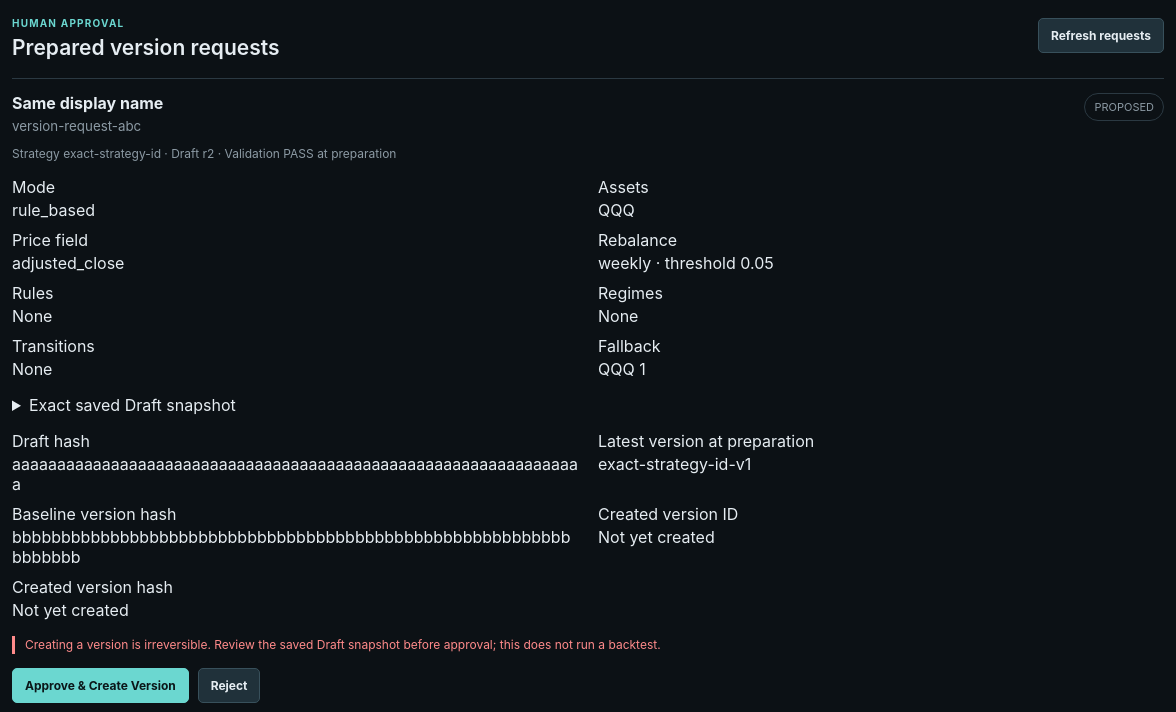
Scenario: controlled version requests › keeps the backend refusal visible after refreshing the request
The width and height of the screenshot is (1176, 712).
Click the button "Approve & Create Version": (100, 686) 12,668 -> 189,703
(page scrolled)
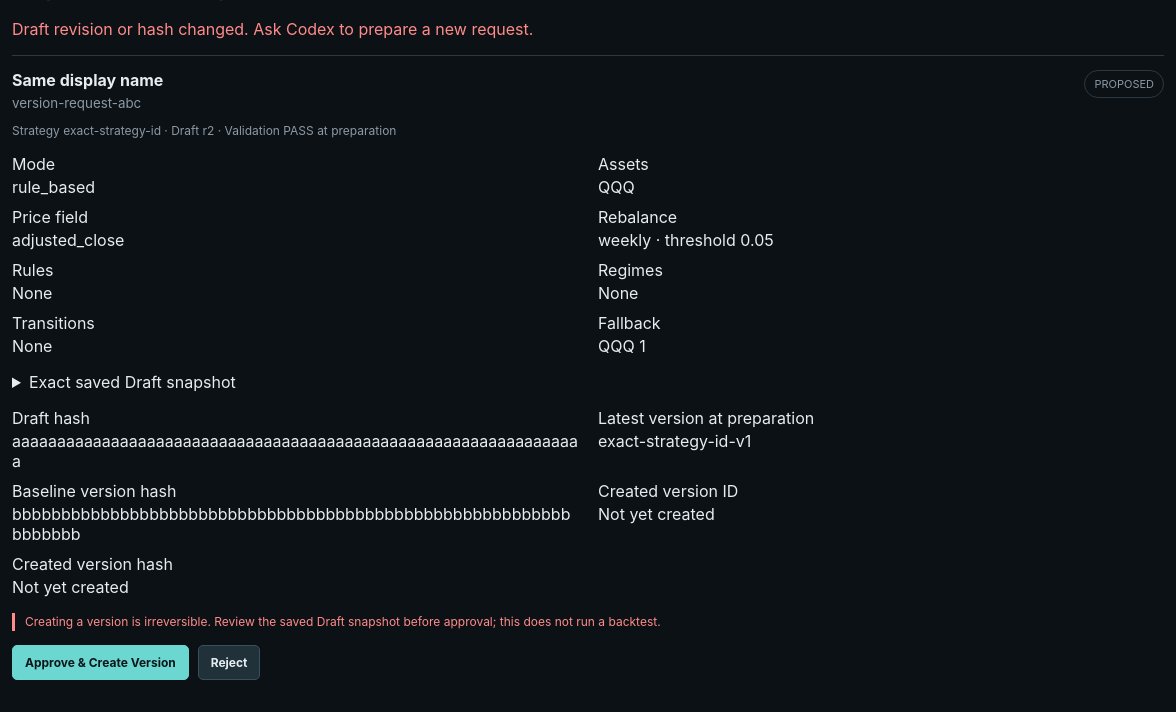
Check: the button "Approve & Create Version" is shown, box 12,645 -> 189,680
Check: the message shows "Draft revision or hash changed", box 12,19 -> 533,39
